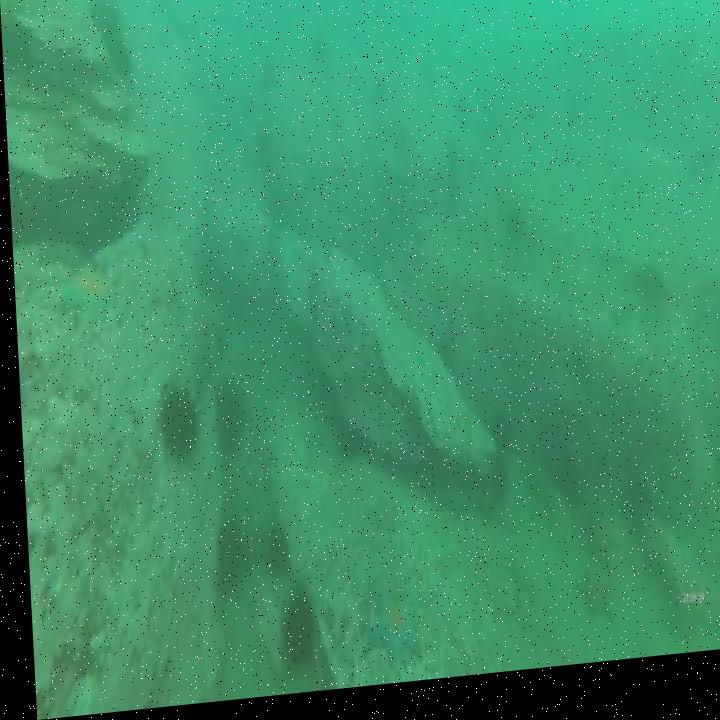echinus: (156, 393, 191, 460), (276, 598, 309, 662), (208, 521, 238, 589), (213, 391, 240, 453), (482, 417, 507, 461), (480, 469, 505, 512), (333, 427, 357, 470), (259, 539, 281, 578)
starfish: (357, 594, 416, 675), (57, 266, 114, 325), (568, 580, 607, 635), (362, 501, 393, 543)
